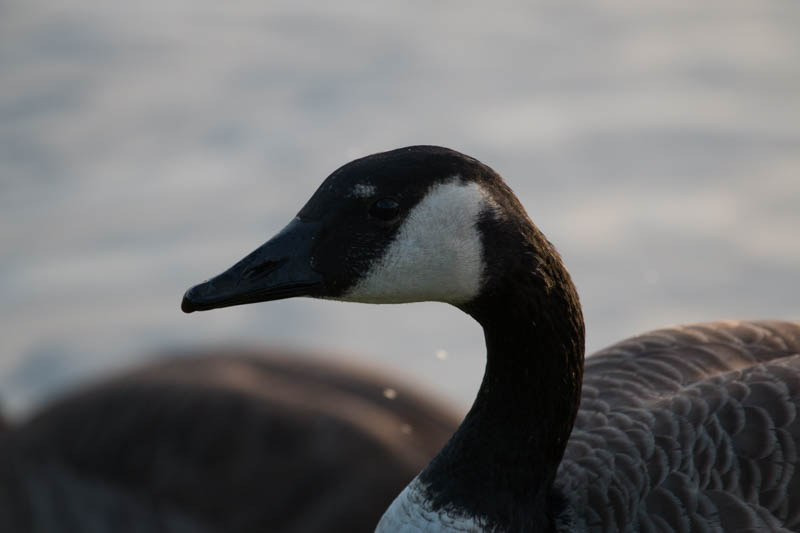goose-head: (180, 144, 534, 315)
